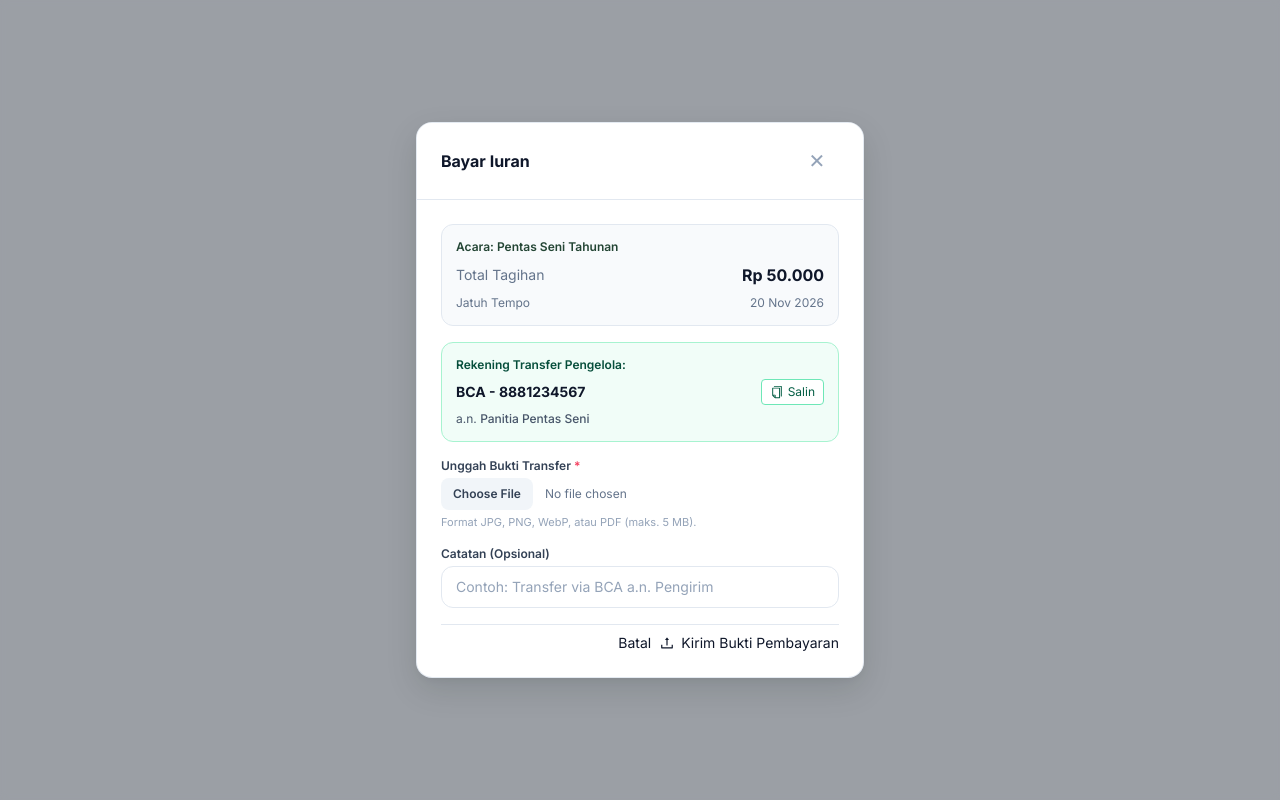
Test case: PANITIA-2.4: MemberBillPayModal Component › modal menolak kirim tanpa bukti
The width and height of the screenshot is (1280, 800).
Click the button "Kirim Bukti Pembayaran": (749, 643) [659,633,839,653]
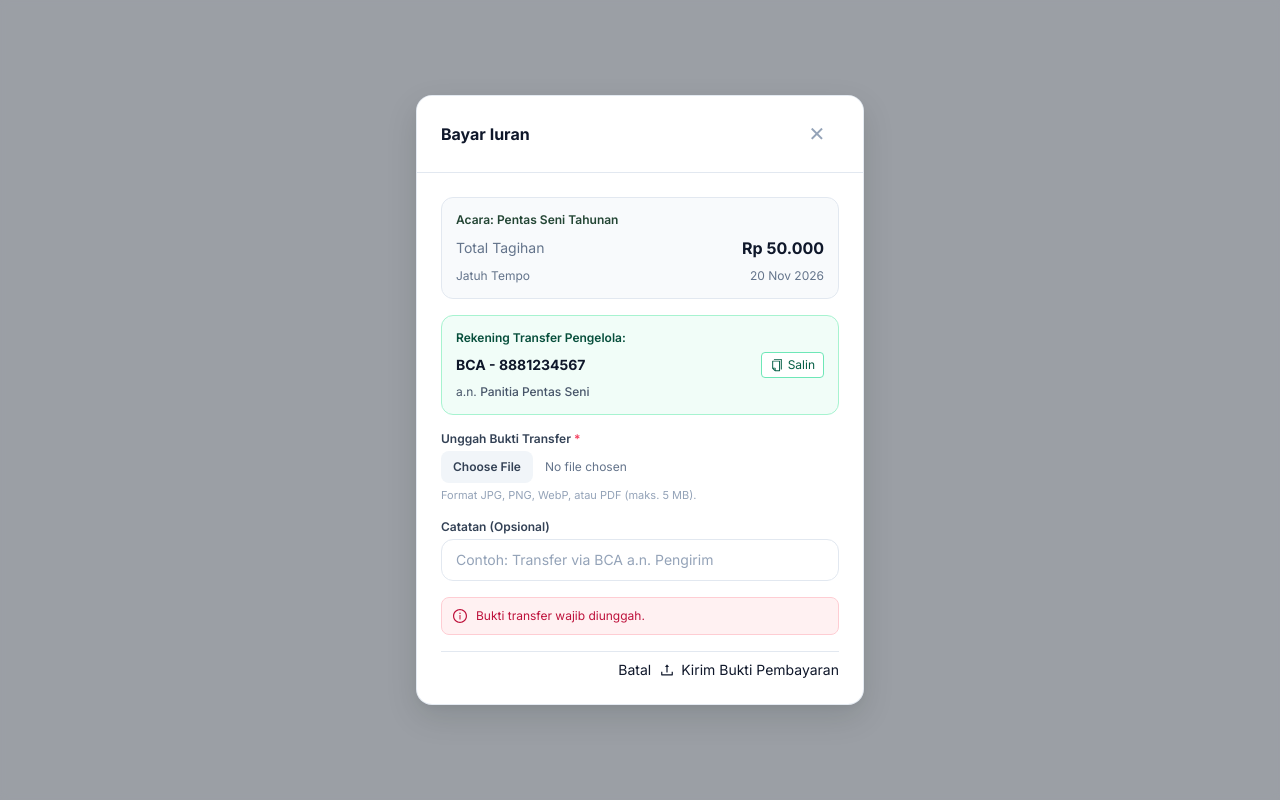
Now the element with test id "pay-error-alert" is shown, box [441,597,839,635]
